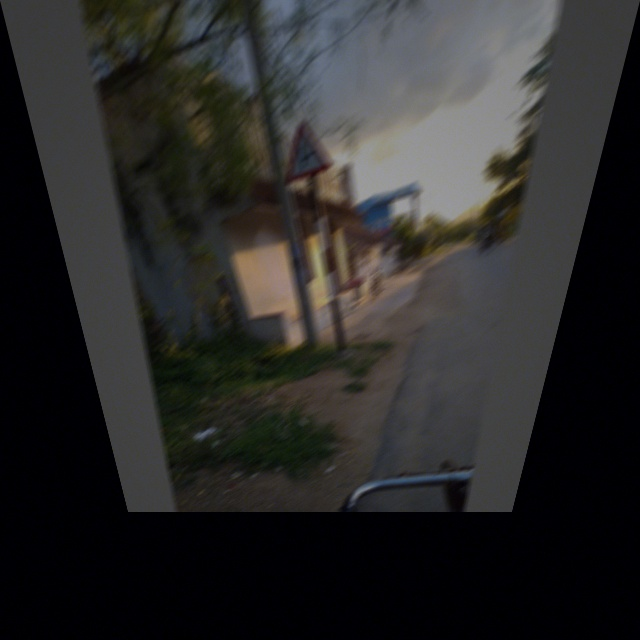Side_Road_Right: (279, 117, 336, 184)
